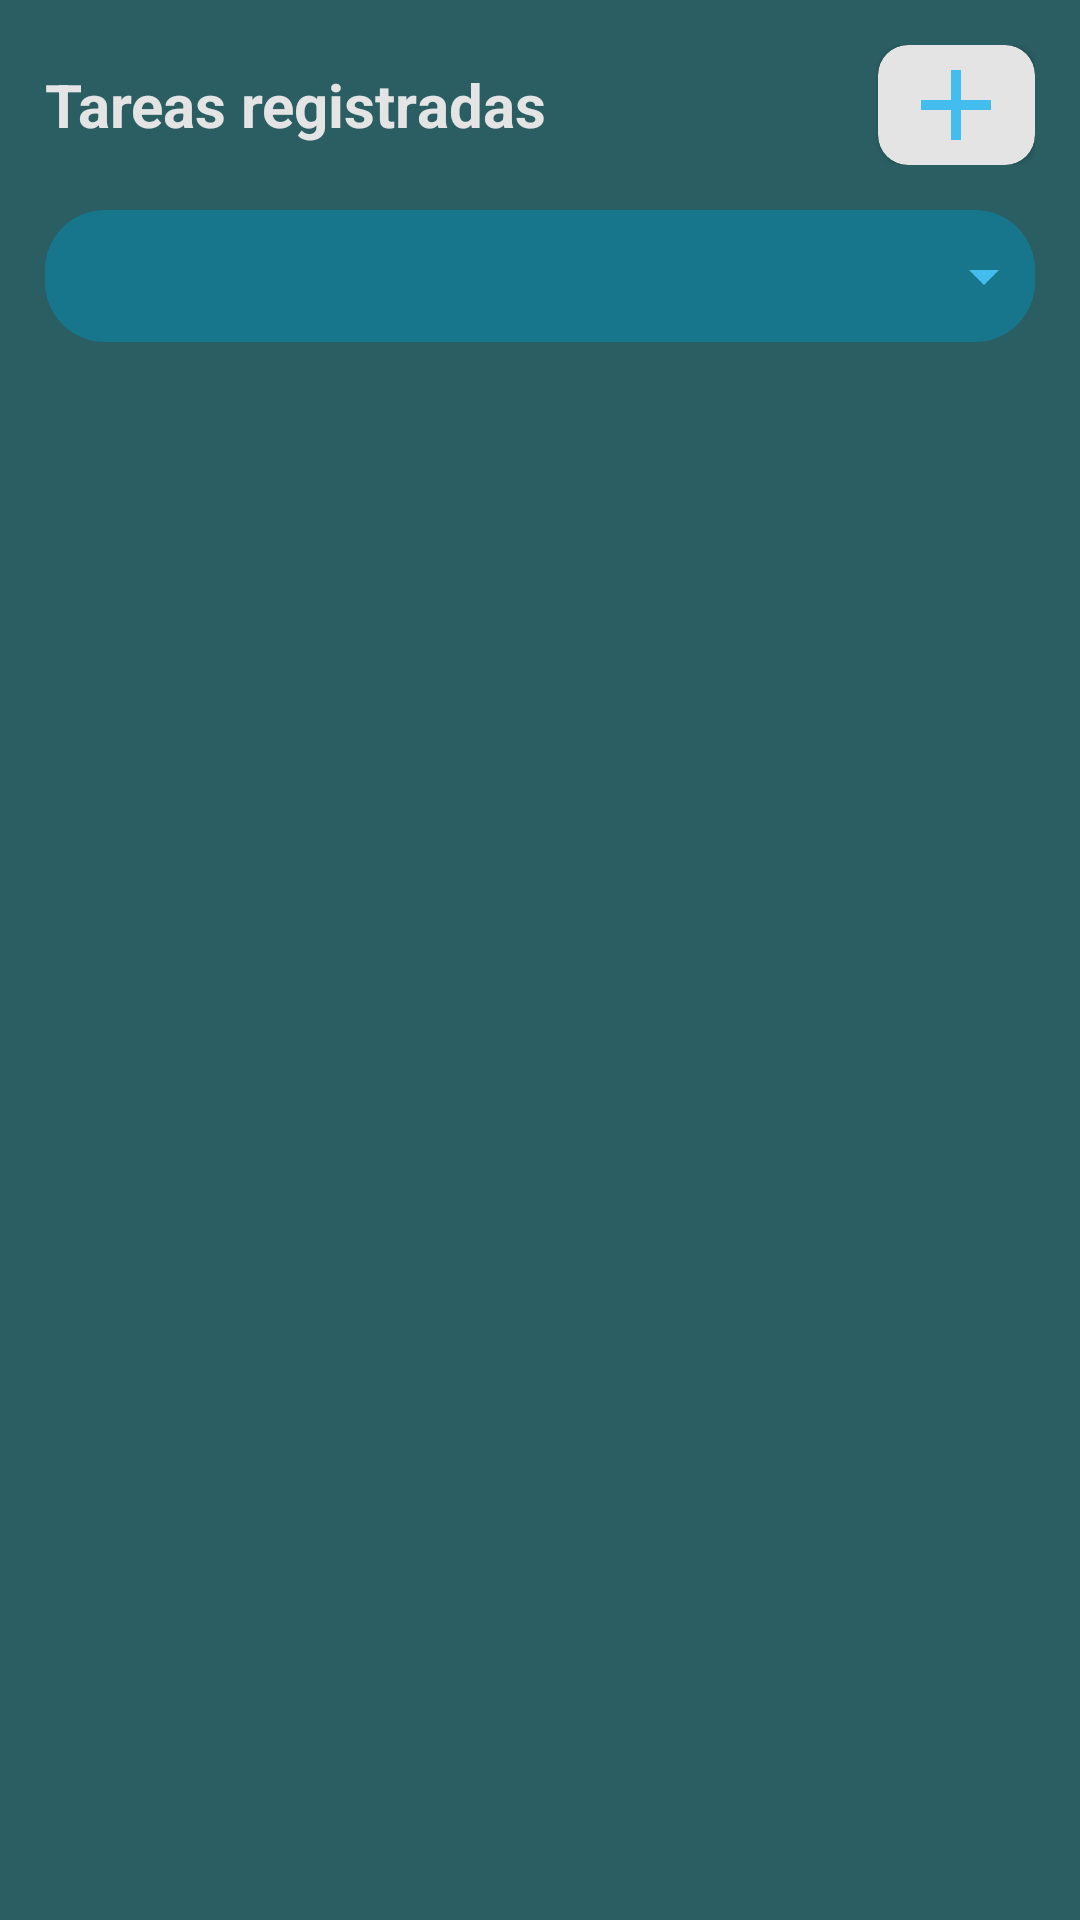

Icons on this 1080*1920 Android screen, each with the point to tap as point (x, y):
add: point (956, 105)
